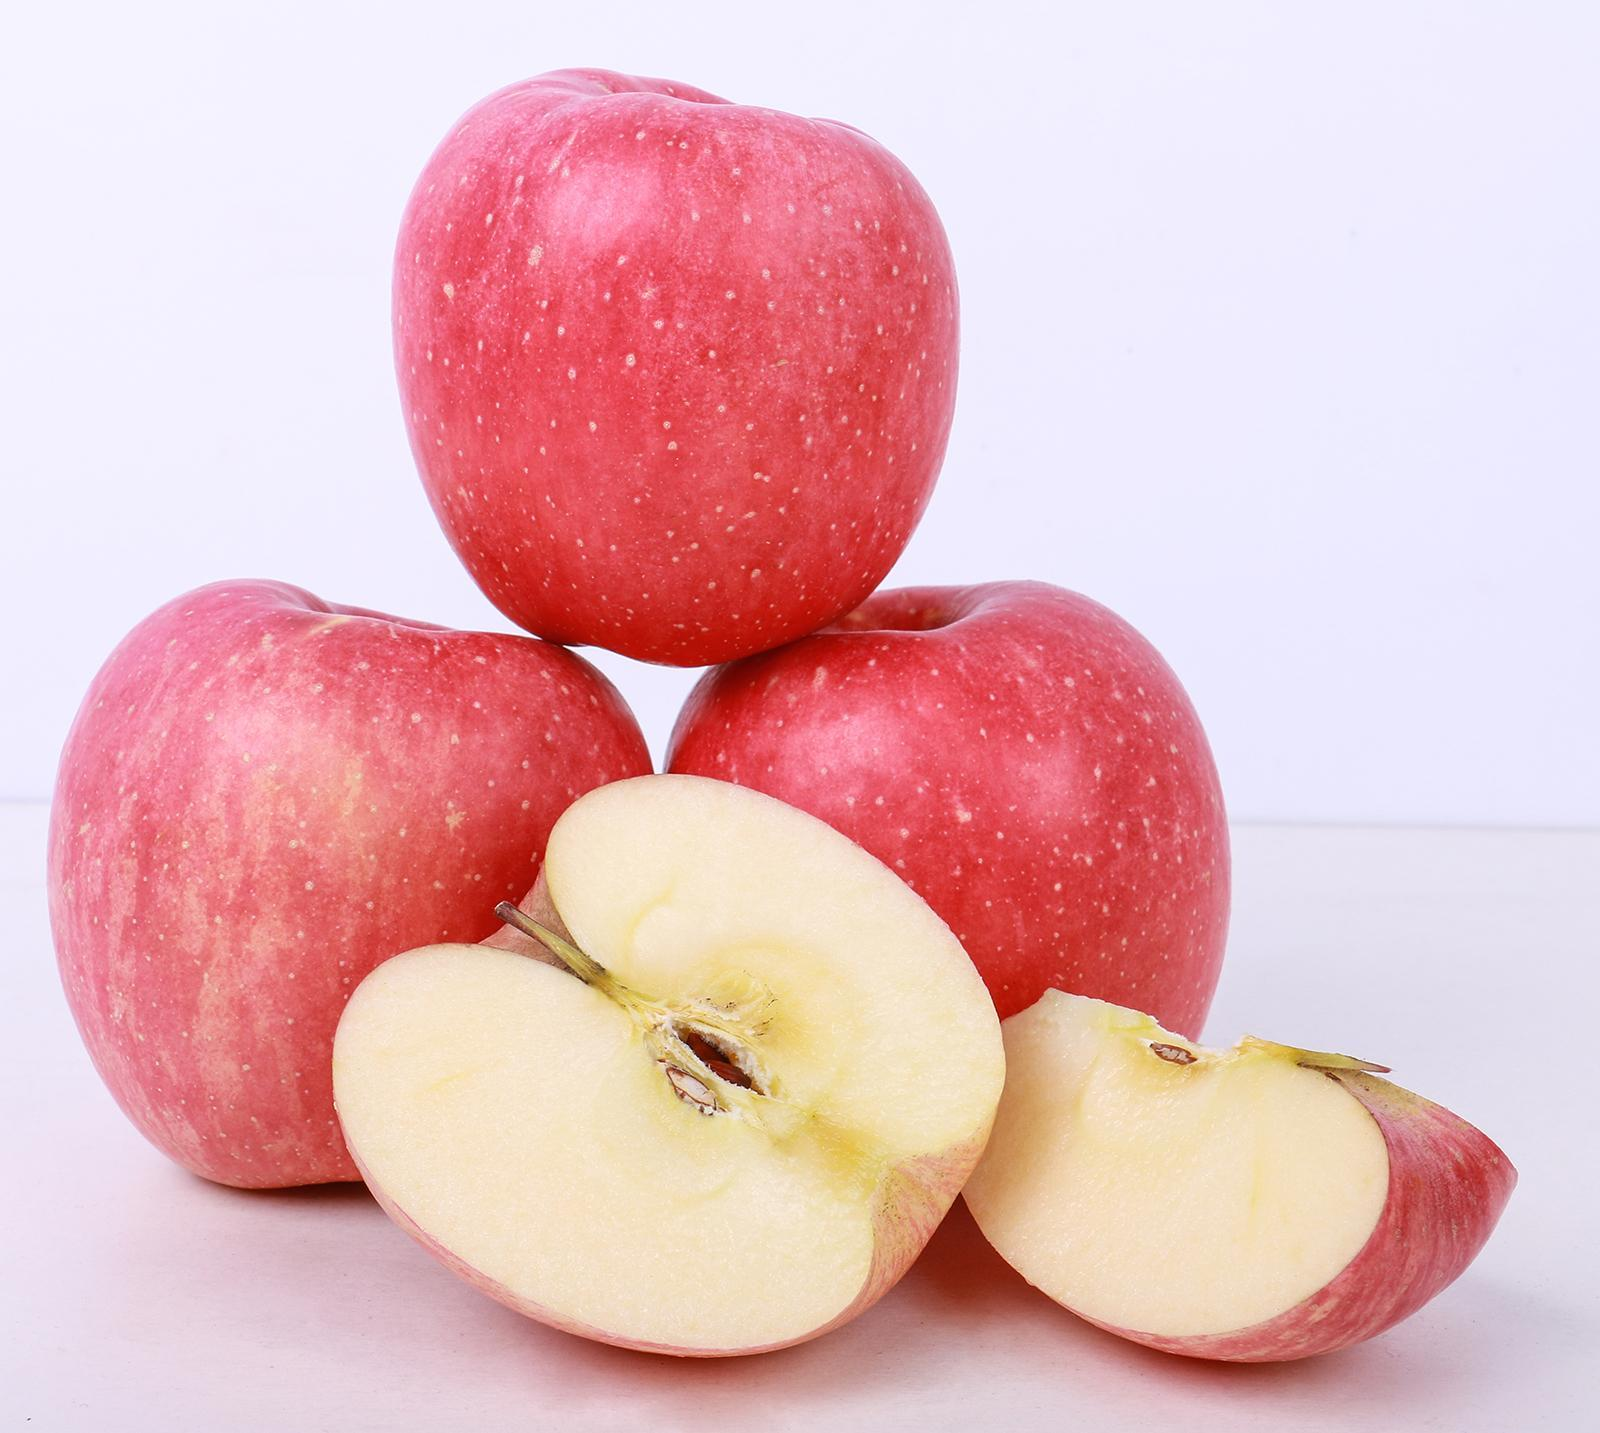apple: (41, 111, 1351, 1322), (77, 539, 1225, 1212), (346, 770, 1023, 1350), (54, 588, 640, 1195), (391, 64, 965, 667), (664, 589, 1235, 1044)
